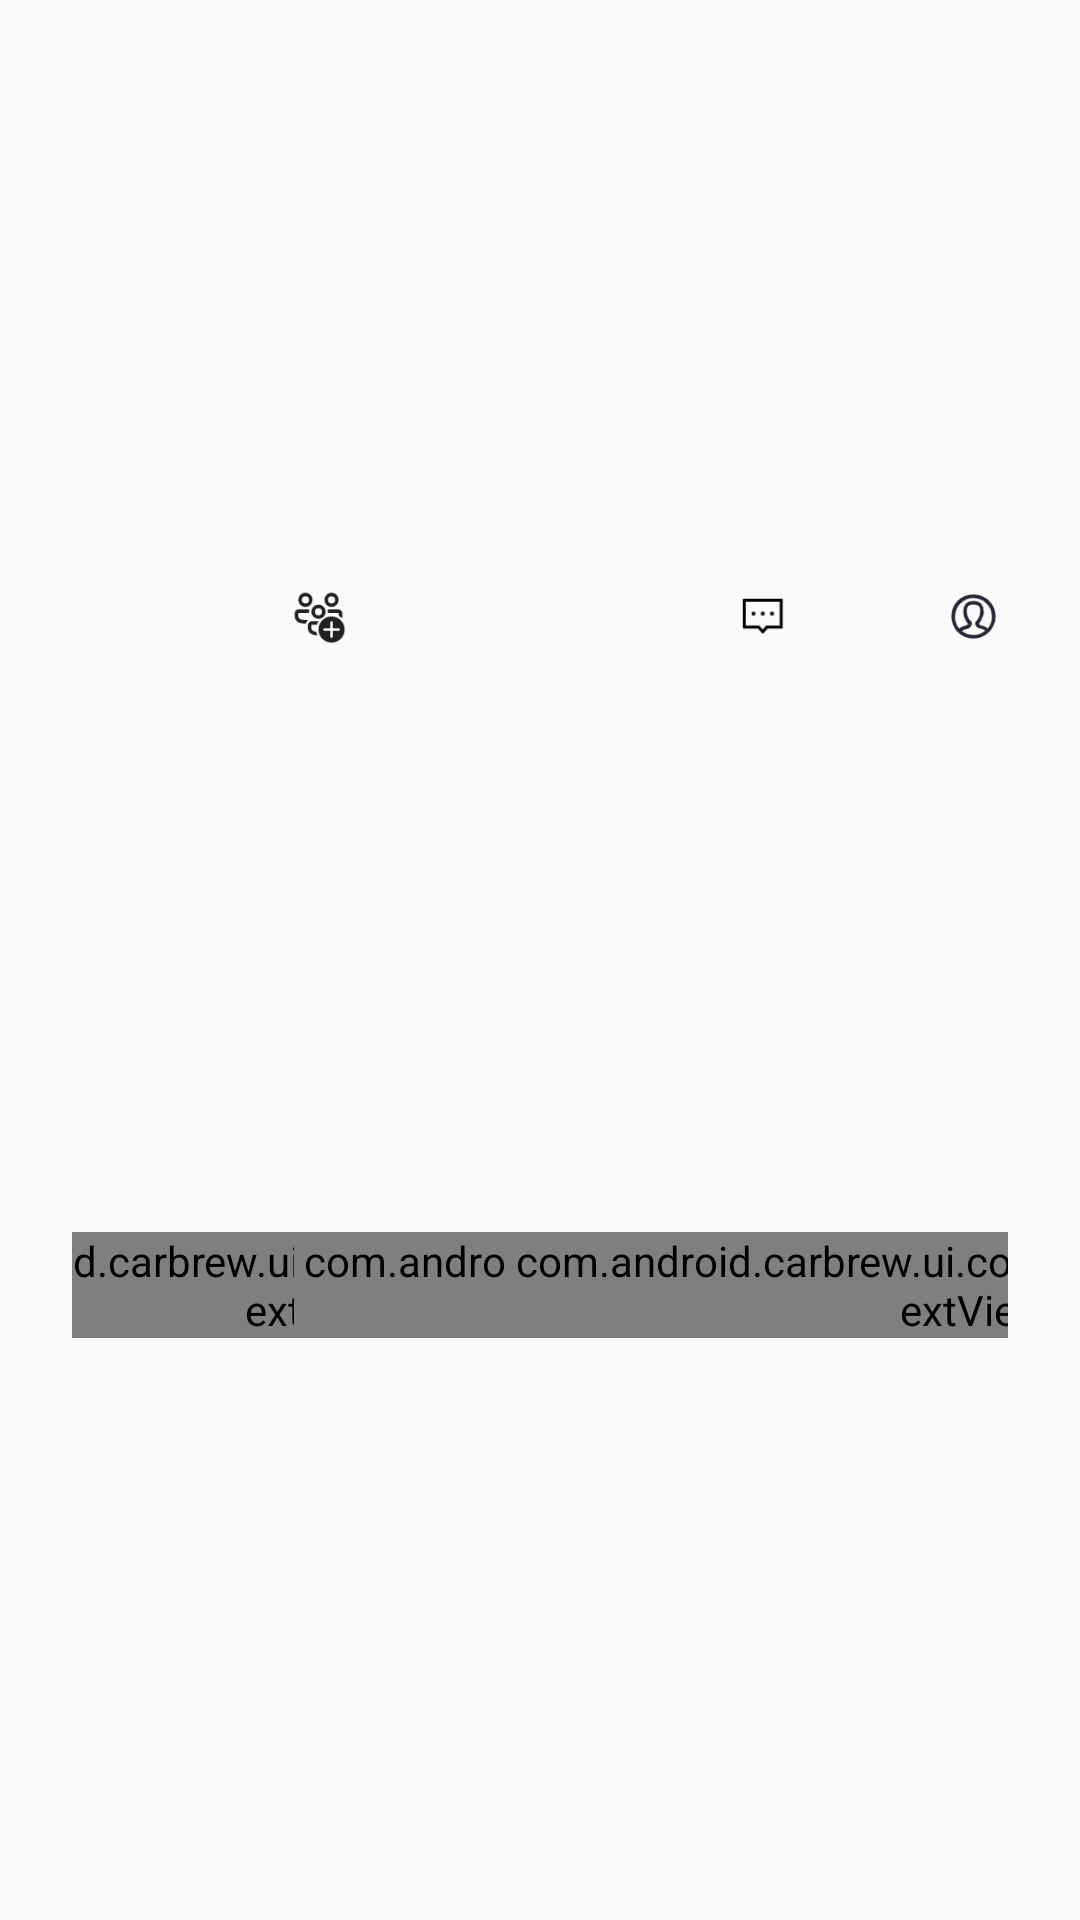

Screen size 1080px×1920px. Icon name, then its box in pixels as bbox(x1, y1, x2, y2):
sel community: bbox(294, 592, 345, 643)
sel mine: bbox(951, 594, 996, 639)
sel notification: bbox(742, 598, 783, 634)
